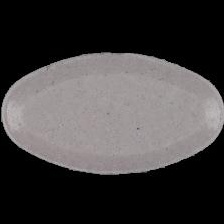68382-053: (0, 0, 224, 224)
